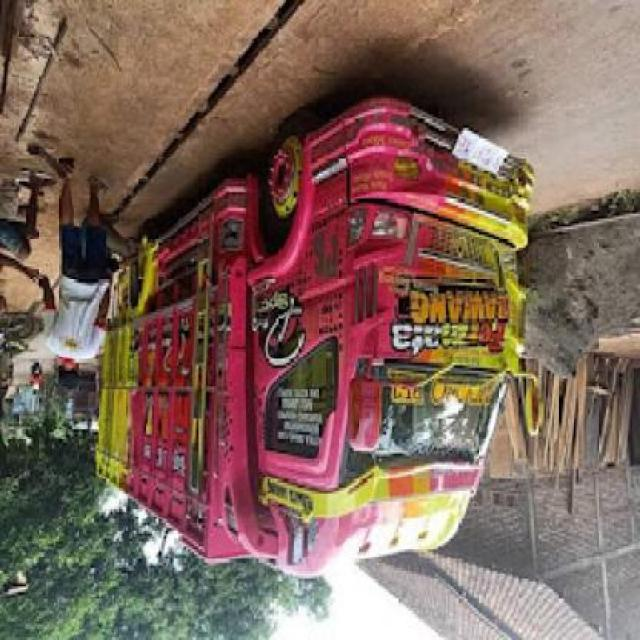truck: (97, 96, 548, 575)
